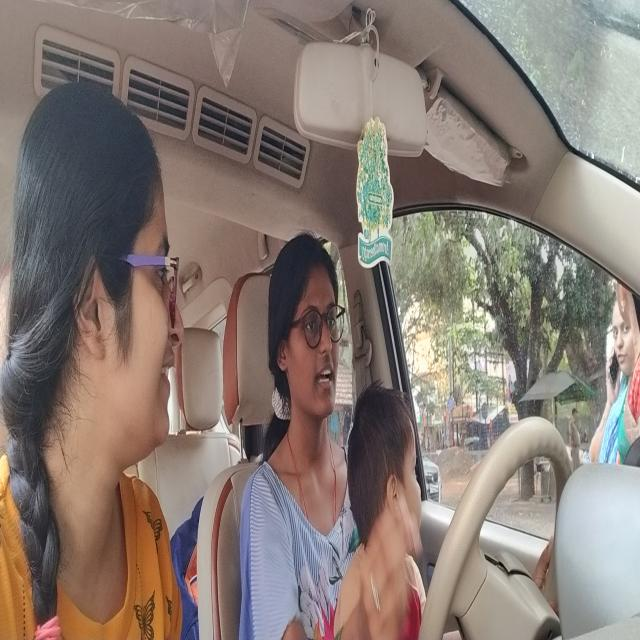child: (352, 384, 425, 534)
person: (50, 73, 188, 475), (271, 243, 343, 424)
